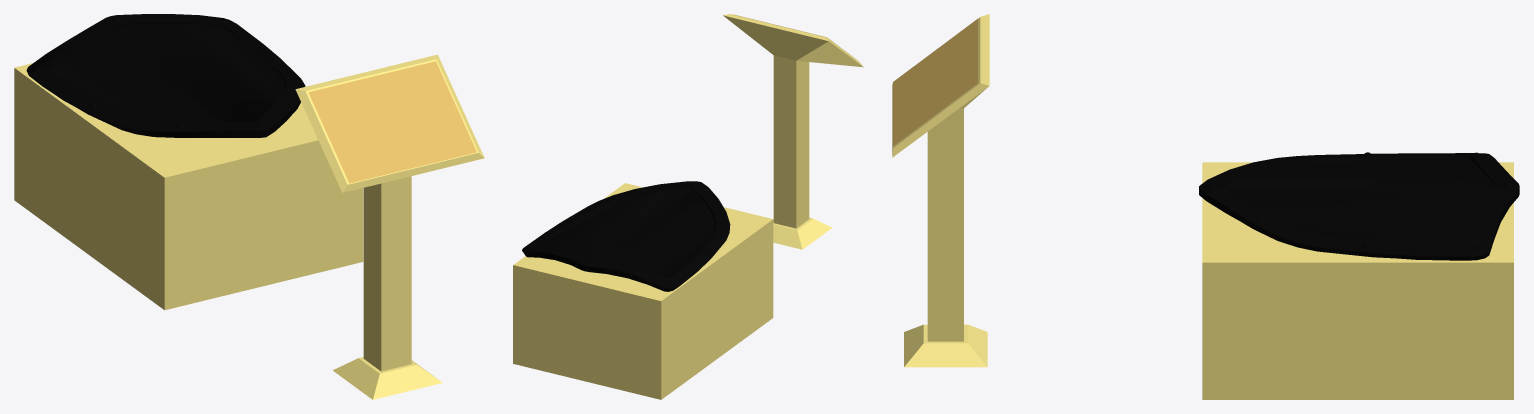
File: medieval-shield.fbx
3 renders of one model, left to right at view 1: azimuth 30°, elevation 25°; view 2: azimuth 150°, elevation 25°; view 3: azimuth 270°, elevation 25°, orthographic. The views are drawn at different scales.
Visible parts, largest first — view 1: Cube, Writing, Box001; view 2: Cube, Box001, Writing; view 3: Cube, Box001, Writing.
Boxes of the visible parts, x1,y1,x2,y2 form: Cube: (14,63,363,310); Writing: (295,54,484,399); Box001: (26,14,305,137); Cube: (513,183,773,399); Box001: (522,181,730,291); Writing: (723,14,863,249); Cube: (1202,162,1513,399); Box001: (1199,152,1519,260); Writing: (892,14,989,367).
Size of the model in its own units: 328 by 437 by 828.
